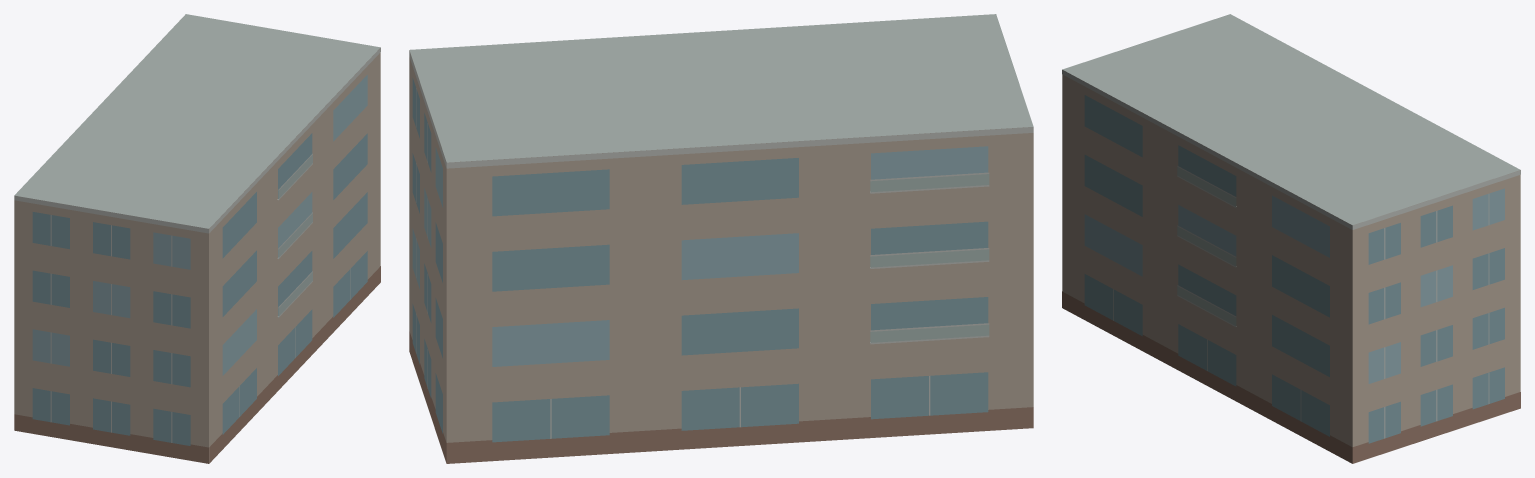
Rendered from survey-upis-32560368.glb.
The picture shows the model from 3 angles, left to right: view 1: azimuth 30°, elevation 25°; view 2: azimuth 150°, elevation 25°; view 3: azimuth 270°, elevation 25°; orthographic projection. The views are drawn at different scales.
Parts seen in each view (by area): view 1: survey-upis-32560368.tmp; view 2: survey-upis-32560368.tmp; view 3: survey-upis-32560368.tmp.
Part boxes in pixels (x1=…): survey-upis-32560368.tmp: x1=14, y1=14, x2=380, y2=463; survey-upis-32560368.tmp: x1=409, y1=14, x2=1033, y2=463; survey-upis-32560368.tmp: x1=1062, y1=14, x2=1520, y2=463.
Size of the model in its own units: 23.19 by 12.2 by 21.27.
